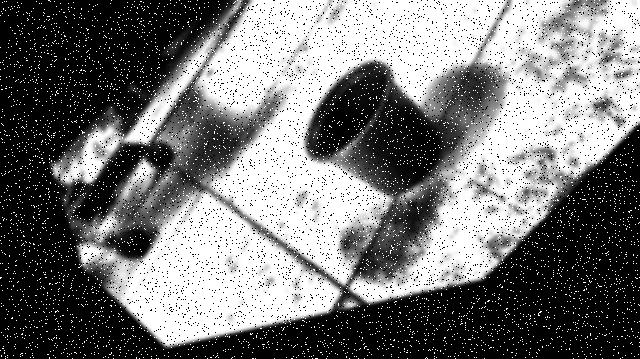pot: (304, 60, 440, 193)
